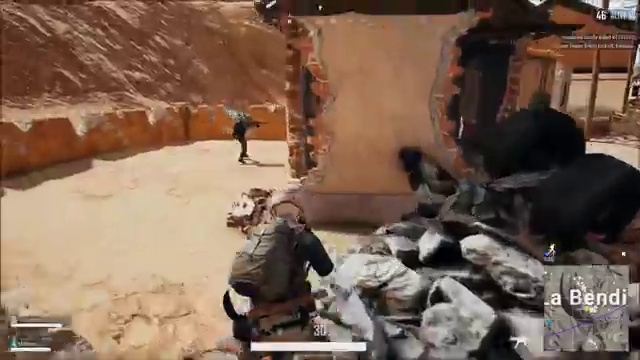Player: (214, 187, 356, 318), (230, 113, 267, 164)
